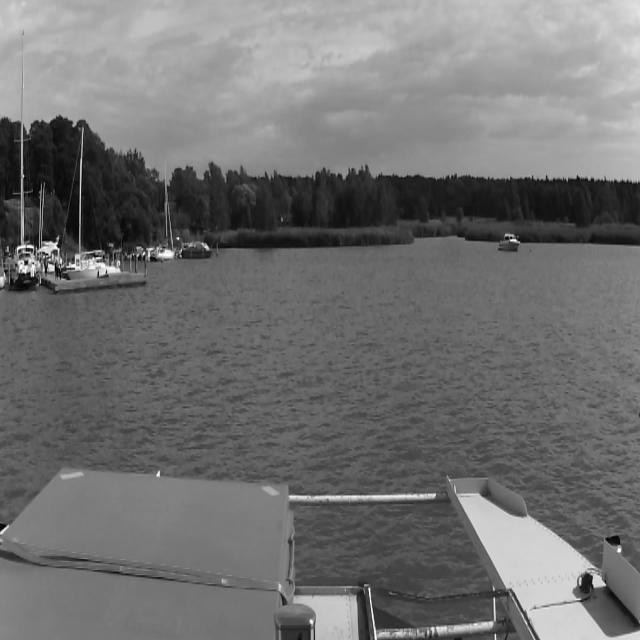ship: (8, 31, 42, 289), (62, 125, 122, 271), (154, 158, 174, 262), (182, 241, 212, 259), (500, 231, 520, 252)
